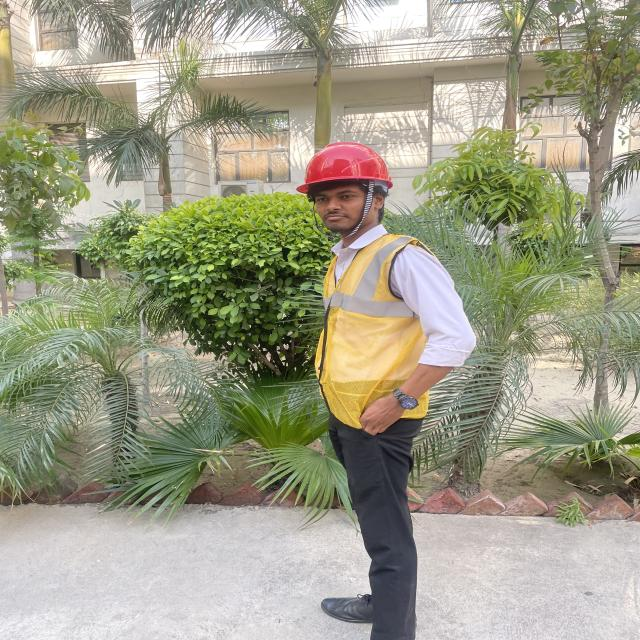safe: (298, 143, 475, 640)
